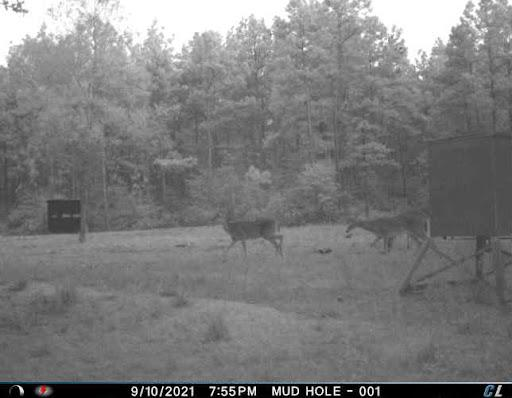Deer: (342, 203, 438, 259), (212, 207, 289, 260)
